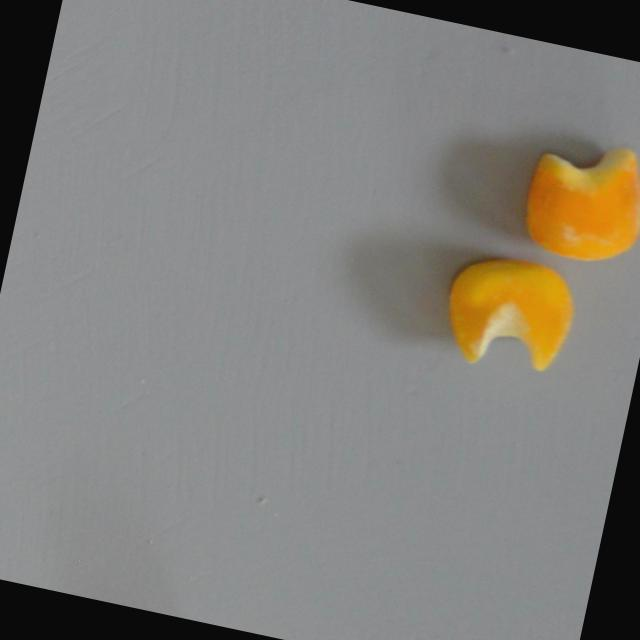no_canjicado: (433, 244, 580, 383)
pelicula: (515, 129, 640, 270)
